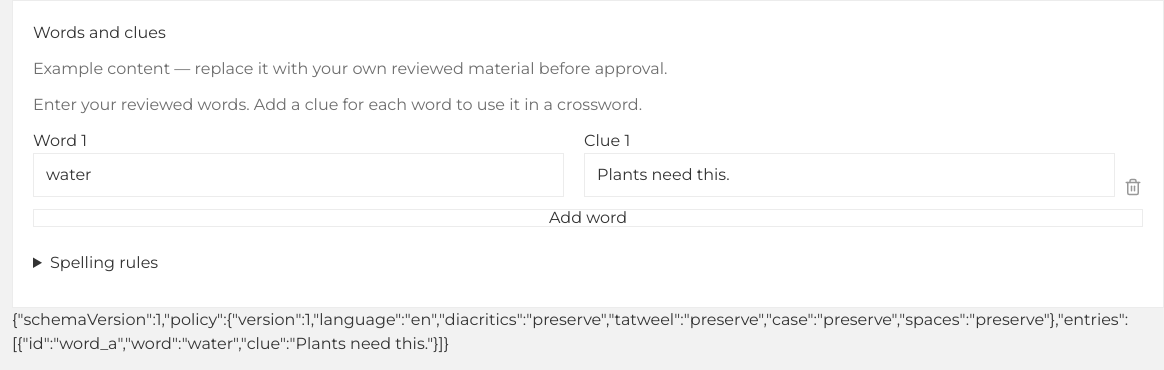
it: clearly identifies starter content as an example until the instructor replaces it
The width and height of the screenshot is (1164, 370).
Check: the text "Example content — replace it with your own reviewed material before approval." is shown, box [33,59,667,78]
Step 1. Replace the text in the field labelled "Word 1" with "moon" → (298, 175), box [33,153,564,197]
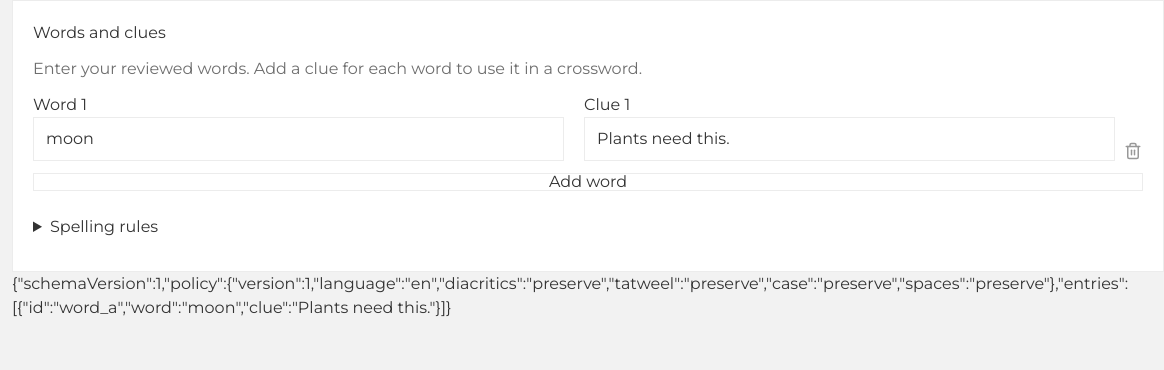
Check: the text "Example content — replace it with your own reviewed material before approval." is gone
